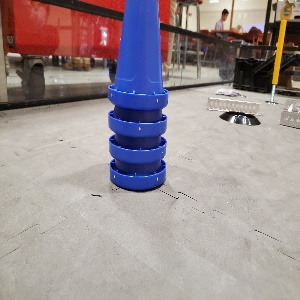Blue_4: (108, 0, 168, 189)
